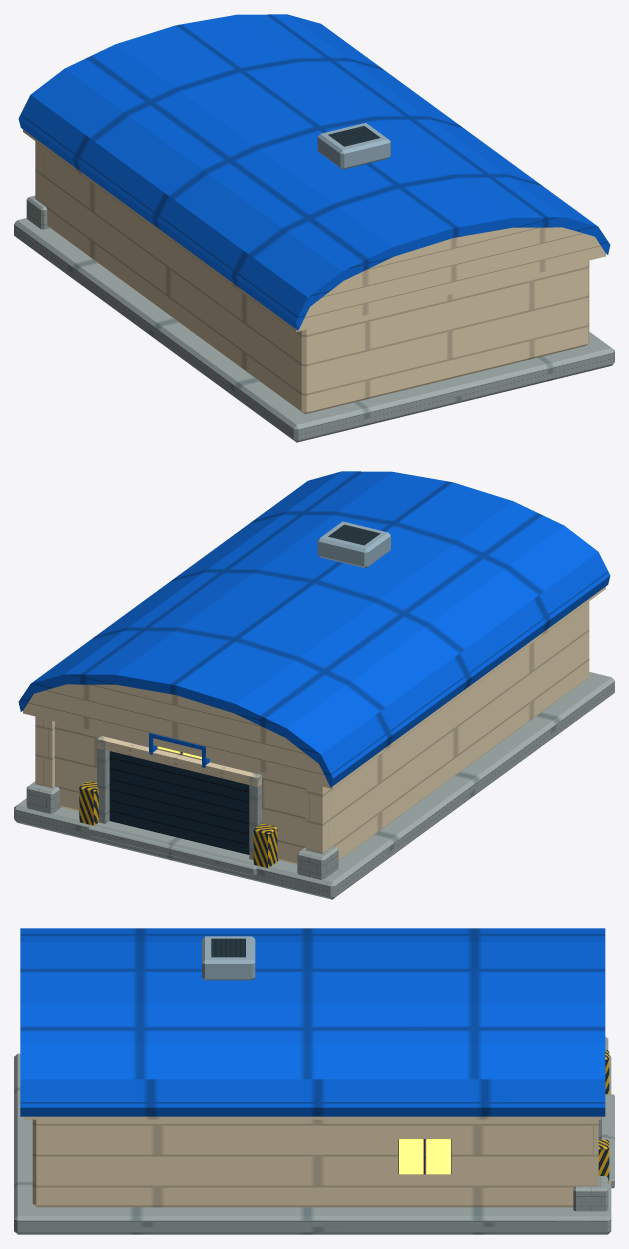
File: bld-factory-store-2x3.glb
3 renders of one model, top to bottom at view 1: azimuth 30°, elevation 25°; view 2: azimuth 150°, elevation 25°; view 3: azimuth 270°, elevation 25°, orthographic. The views are drawn at different scales.
Parts seen in each view (by area): view 1: bld-factory-store-2x3; view 2: bld-factory-store-2x3; view 3: bld-factory-store-2x3.
Part boxes in pixels (x1,y1,x2,y2): bld-factory-store-2x3: [14, 14, 614, 442]; bld-factory-store-2x3: [14, 471, 614, 899]; bld-factory-store-2x3: [14, 928, 614, 1234].
Size of the model in its own units: 1.9 by 1.1 by 2.92.
Materials: 1 (1 with a texture image).
